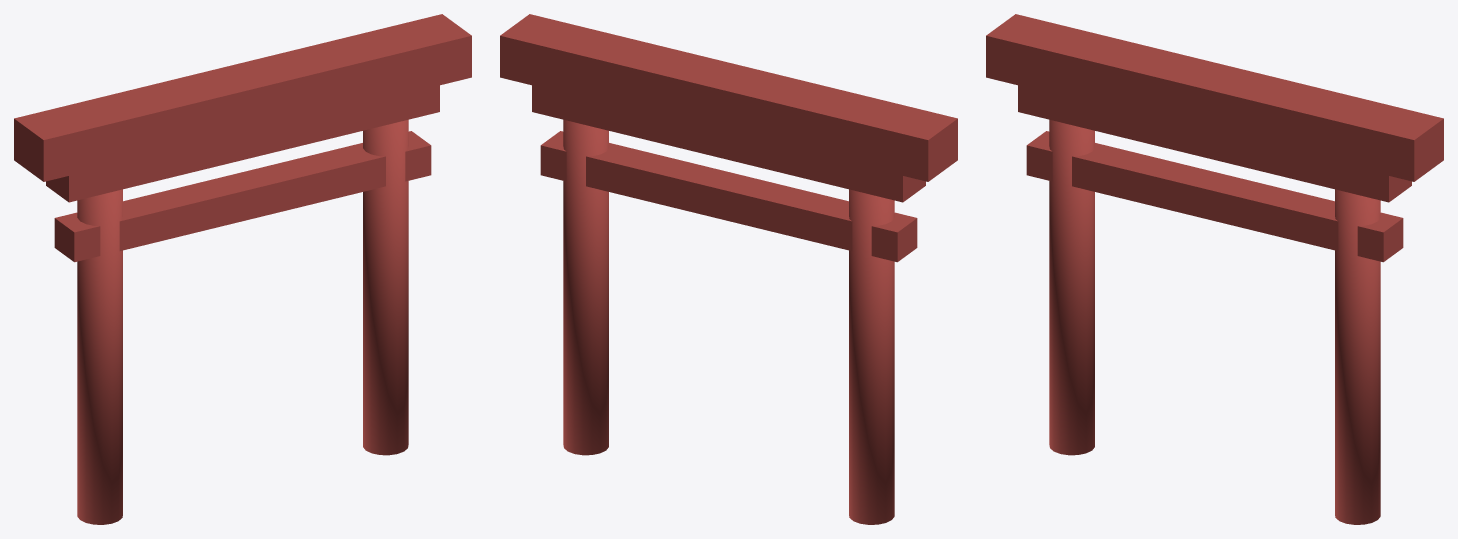
File: prop_mini_torii.glb
3 renders of one model, left to right at view 1: azimuth 30°, elevation 25°; view 2: azimuth 150°, elevation 25°; view 3: azimuth 330°, elevation 25°, orthographic.
Visible parts, largest first — view 1: mini_torii; view 2: mini_torii; view 3: mini_torii.
Part boxes in pixels (x1=…): mini_torii: x1=14, y1=14, x2=471, y2=524; mini_torii: x1=500, y1=14, x2=957, y2=524; mini_torii: x1=986, y1=14, x2=1443, y2=524.
Size of the model in its own units: 1.5 by 1.35 by 0.18.
